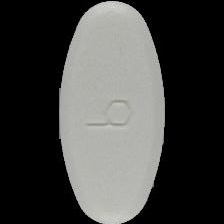54868-2416: (0, 0, 224, 224)
